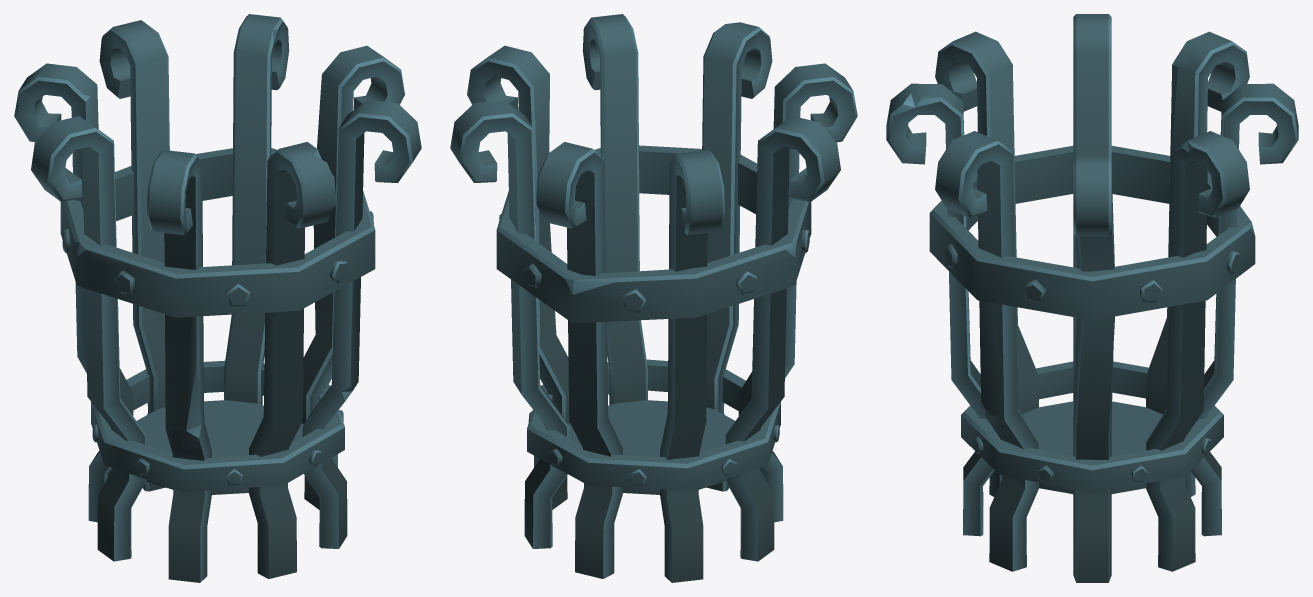
Rendered from FirePlace_1_1_F.glb.
3 renders of one model, left to right at view 1: azimuth 30°, elevation 25°; view 2: azimuth 150°, elevation 25°; view 3: azimuth 270°, elevation 25°, orthographic.
Visible parts, largest first — view 1: FirePlace_1_1_F; view 2: FirePlace_1_1_F; view 3: FirePlace_1_1_F.
Part boxes in pixels (x1=…): FirePlace_1_1_F: x1=14, y1=14, x2=421, y2=582; FirePlace_1_1_F: x1=450, y1=14, x2=857, y2=582; FirePlace_1_1_F: x1=886, y1=14, x2=1298, y2=582.
Bounding box in the file's own units: 0.7082 × 0.8289 × 0.7082.
1 material, 1 textured.
